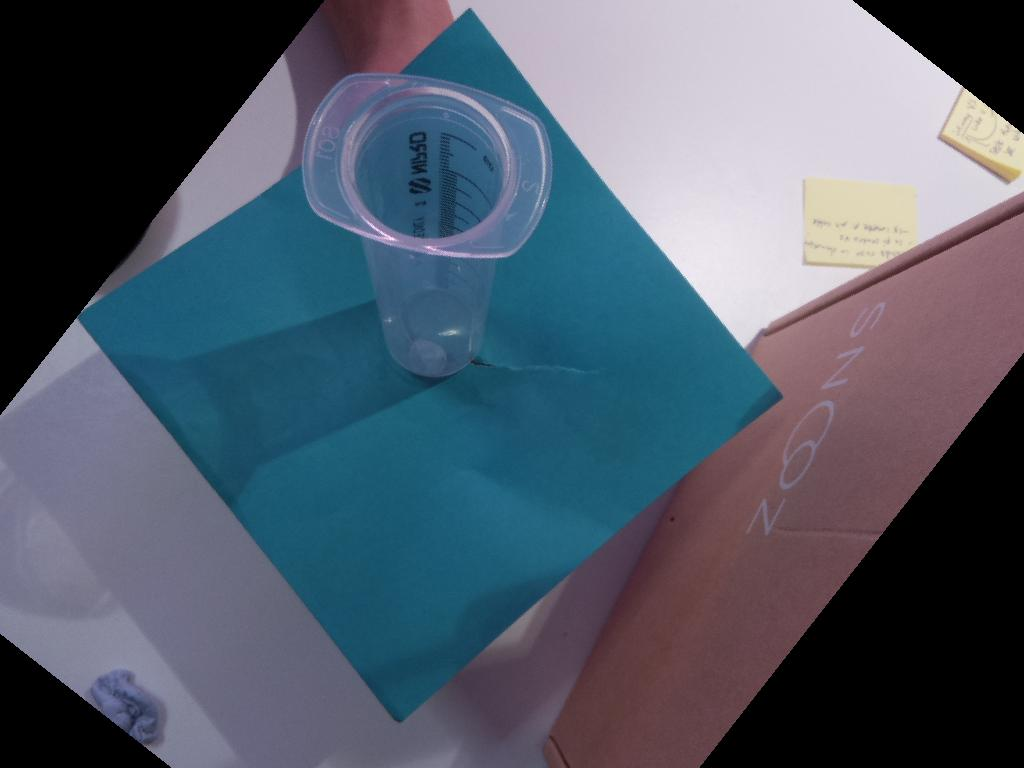clean: (301, 71, 555, 258)
